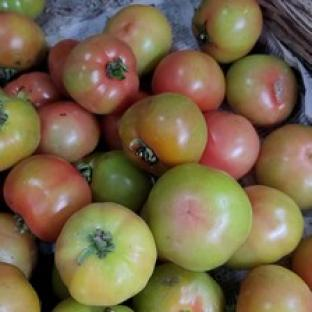Tomato: (144, 163, 252, 271), (55, 202, 157, 306), (3, 155, 91, 242), (119, 92, 207, 175), (228, 184, 303, 268), (63, 34, 139, 114), (226, 55, 298, 126), (104, 3, 172, 76), (255, 123, 311, 210), (131, 262, 225, 311), (152, 49, 225, 111), (78, 151, 153, 211), (200, 111, 260, 179), (37, 101, 100, 162), (236, 265, 311, 311), (0, 91, 40, 171), (99, 90, 150, 149), (0, 12, 47, 72), (0, 212, 38, 278), (3, 72, 62, 108), (0, 262, 41, 311), (48, 38, 77, 98), (290, 234, 311, 289), (52, 297, 133, 311), (51, 262, 71, 300)
